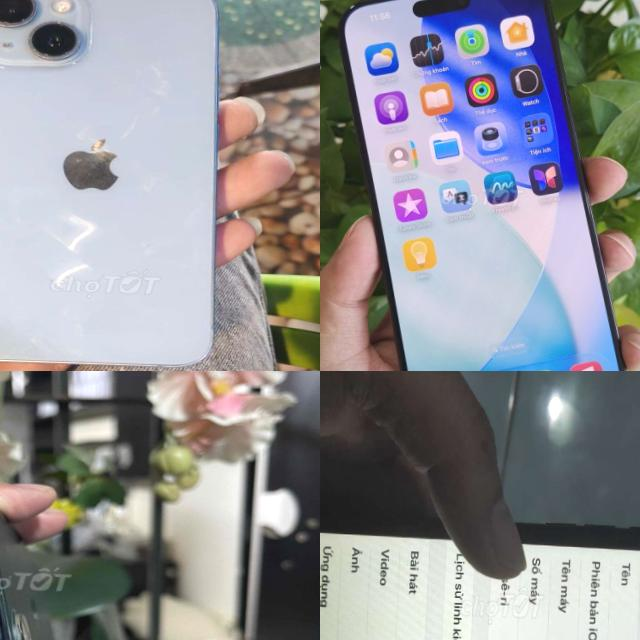gen_11: (0, 471, 86, 640)
gen_14: (0, 0, 246, 371)
gen_15: (320, 0, 640, 371)
gen_x_xs: (320, 505, 640, 640)
scratch: (348, 2, 354, 10)
